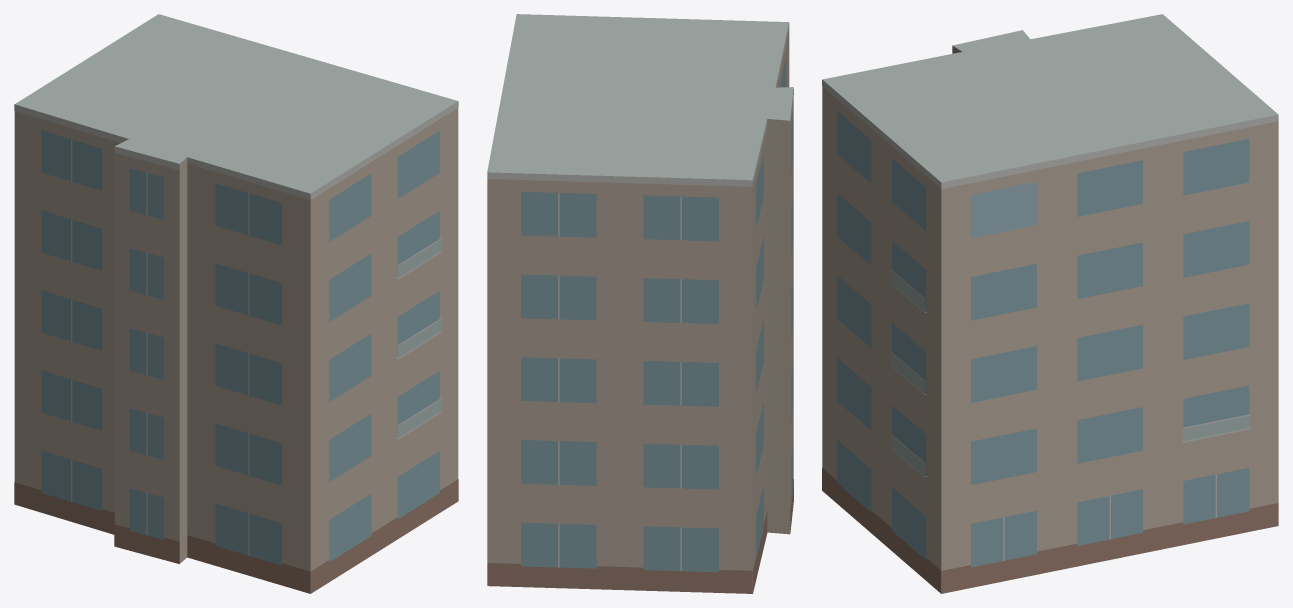
Rendered from survey-upis-32758408.glb.
3 renders of one model, left to right at view 1: azimuth 30°, elevation 25°; view 2: azimuth 150°, elevation 25°; view 3: azimuth 270°, elevation 25°, orthographic. The views are drawn at different scales.
Parts seen in each view (by area): view 1: survey-upis-32758408.tmp; view 2: survey-upis-32758408.tmp; view 3: survey-upis-32758408.tmp.
Part boxes in pixels (<box>): survey-upis-32758408.tmp: <box>14,14,458,593</box>; survey-upis-32758408.tmp: <box>487,14,793,593</box>; survey-upis-32758408.tmp: <box>822,14,1278,593</box>.
Bounding box in the file's own units: 13.42 × 15.25 × 15.35.
